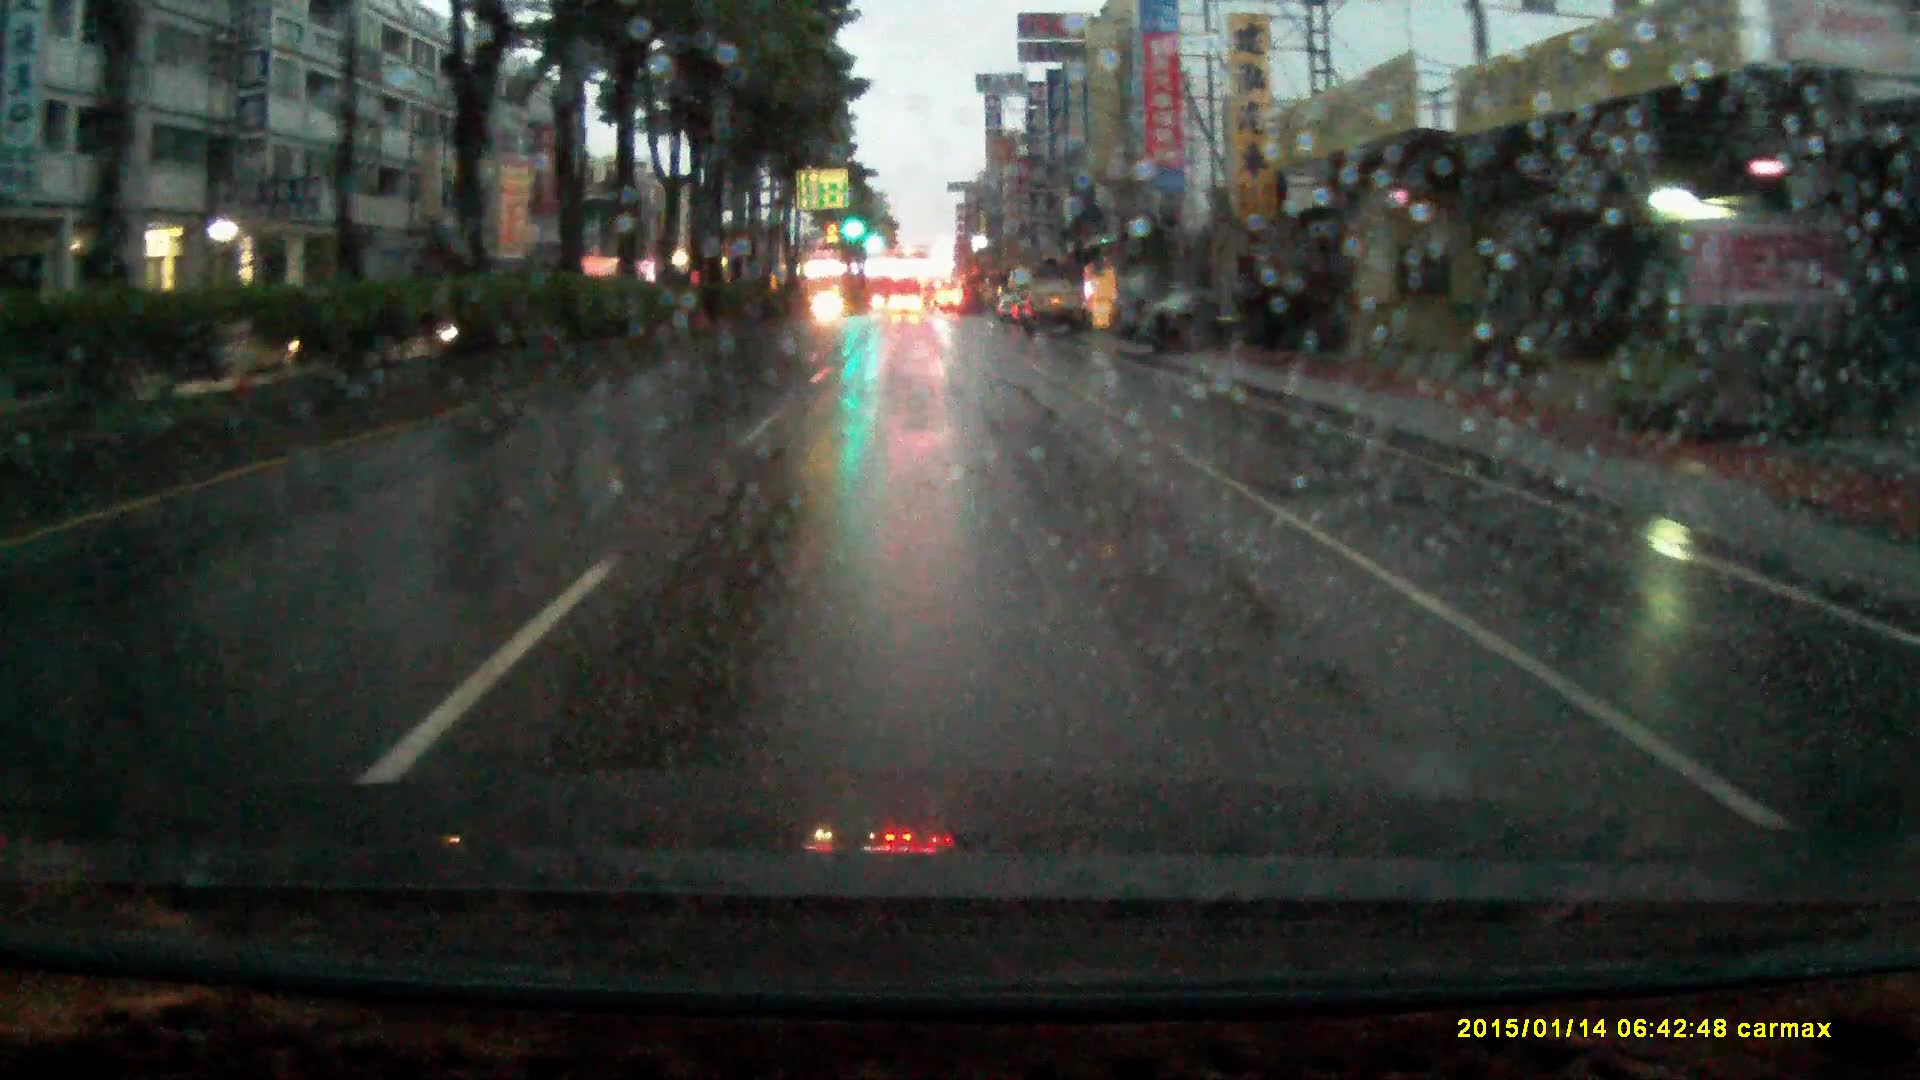vehicle: (1121, 291, 1344, 355), (1023, 284, 1089, 334), (886, 294, 927, 319)
